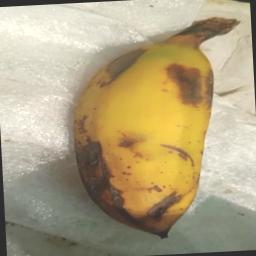Banana Overripe: (61, 1, 256, 250)
